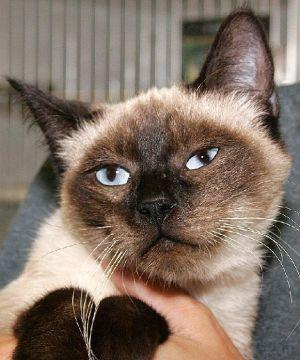siamese: (2, 5, 292, 305)
